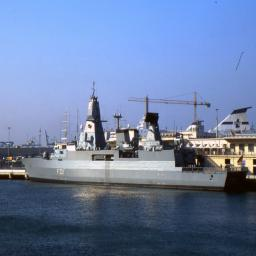Fragata: (20, 79, 251, 196)
